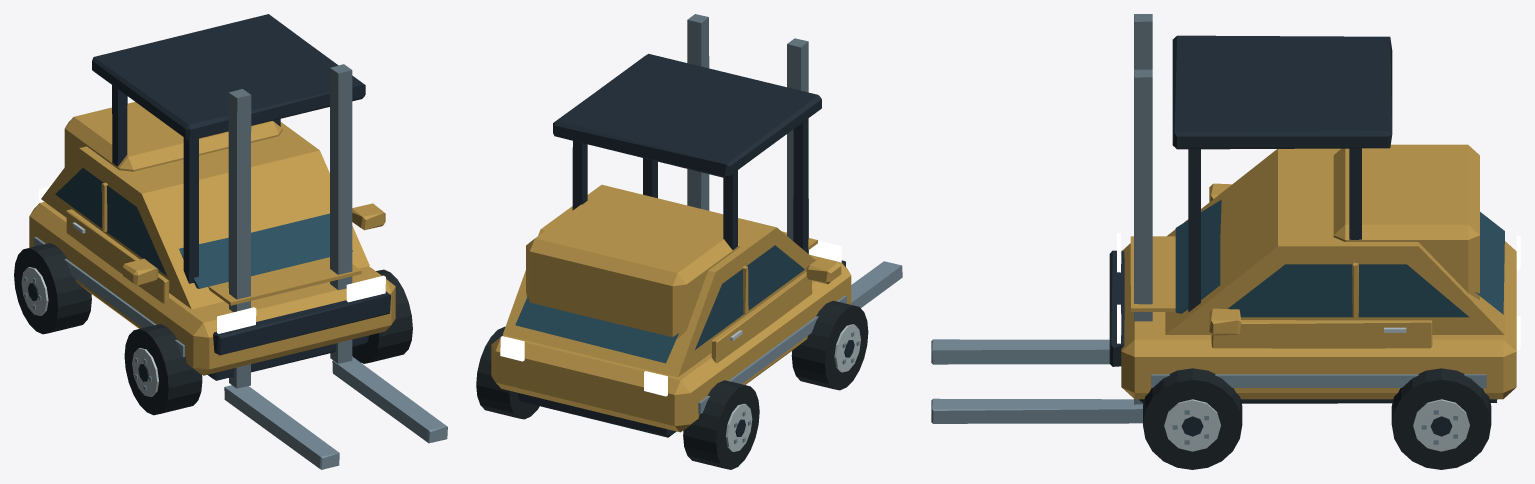
File: road-forklift.lod1.glb
3 renders of one model, left to right at view 1: azimuth 30°, elevation 25°; view 2: azimuth 150°, elevation 25°; view 3: azimuth 270°, elevation 25°, orthographic. The views are drawn at different scales.
Visible parts, largest first — view 1: road-forklift__body, road-forklift__forks, road-forklift__door_-1, road-forklift__wheel_steer_0_l, road-forklift__wheel_steer_1_l, road-forklift__wheel_steer_0_r; view 2: road-forklift__body, road-forklift__door_-1, road-forklift__wheel_steer_0_l, road-forklift__wheel_steer_1_l, road-forklift__wheel_steer_1_r, road-forklift__forks; view 3: road-forklift__body, road-forklift__door_1, road-forklift__forks, road-forklift__wheel_steer_1_r, road-forklift__wheel_steer_0_r.
Boxes of the visible parts, left/top/right/bottom form: road-forklift__body: left=29, top=14, right=395, bottom=388; road-forklift__forks: left=224, top=356, right=447, bottom=469; road-forklift__door_-1: left=55, top=168, right=169, bottom=303; road-forklift__wheel_steer_0_l: left=124, top=324, right=202, bottom=415; road-forklift__wheel_steer_1_l: left=14, top=243, right=91, bottom=334; road-forklift__wheel_steer_0_r: left=352, top=269, right=412, bottom=363; road-forklift__body: left=491, top=14, right=851, bottom=437; road-forklift__door_-1: left=695, top=245, right=812, bottom=363; road-forklift__wheel_steer_0_l: left=791, top=301, right=868, bottom=390; road-forklift__wheel_steer_1_l: left=683, top=380, right=759, bottom=469; road-forklift__wheel_steer_1_r: left=476, top=326, right=539, bottom=419; road-forklift__forks: left=851, top=261, right=902, bottom=307; road-forklift__body: left=1109, top=14, right=1520, bottom=404; road-forklift__door_1: left=1211, top=262, right=1469, bottom=348; road-forklift__forks: left=931, top=339, right=1142, bottom=423; road-forklift__wheel_steer_1_r: left=1391, top=368, right=1491, bottom=469; road-forklift__wheel_steer_0_r: left=1143, top=368, right=1242, bottom=469.
Size of the model in its own units: 2.25 by 2.69 by 4.03.
